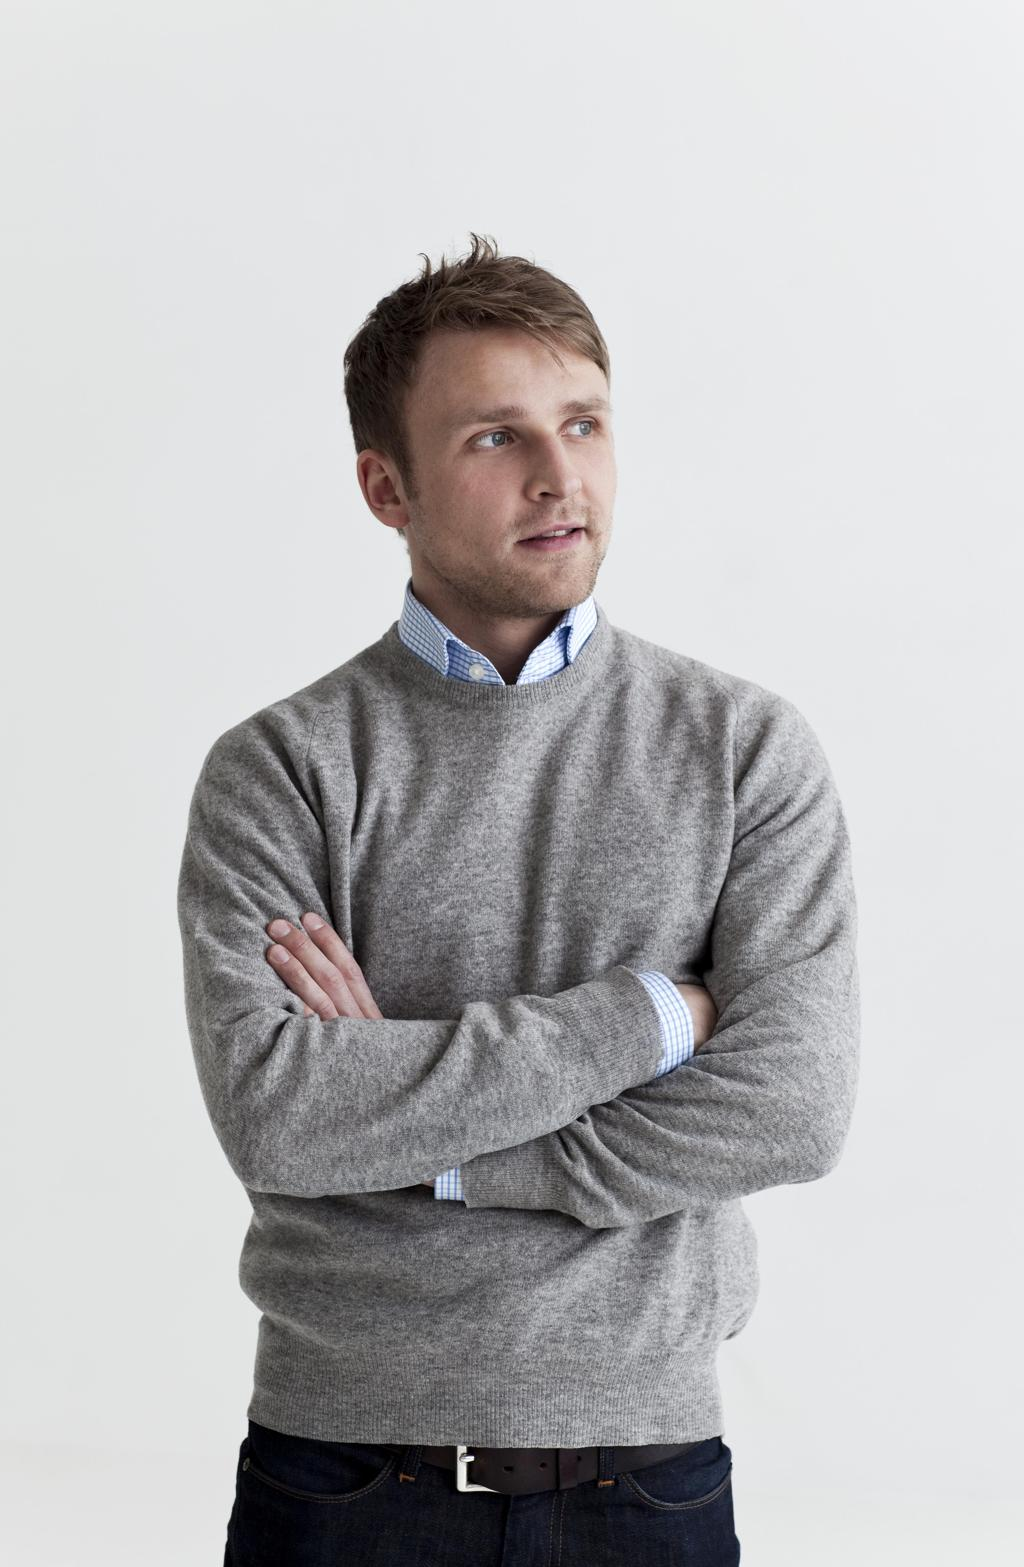face: (410, 321, 618, 614)
